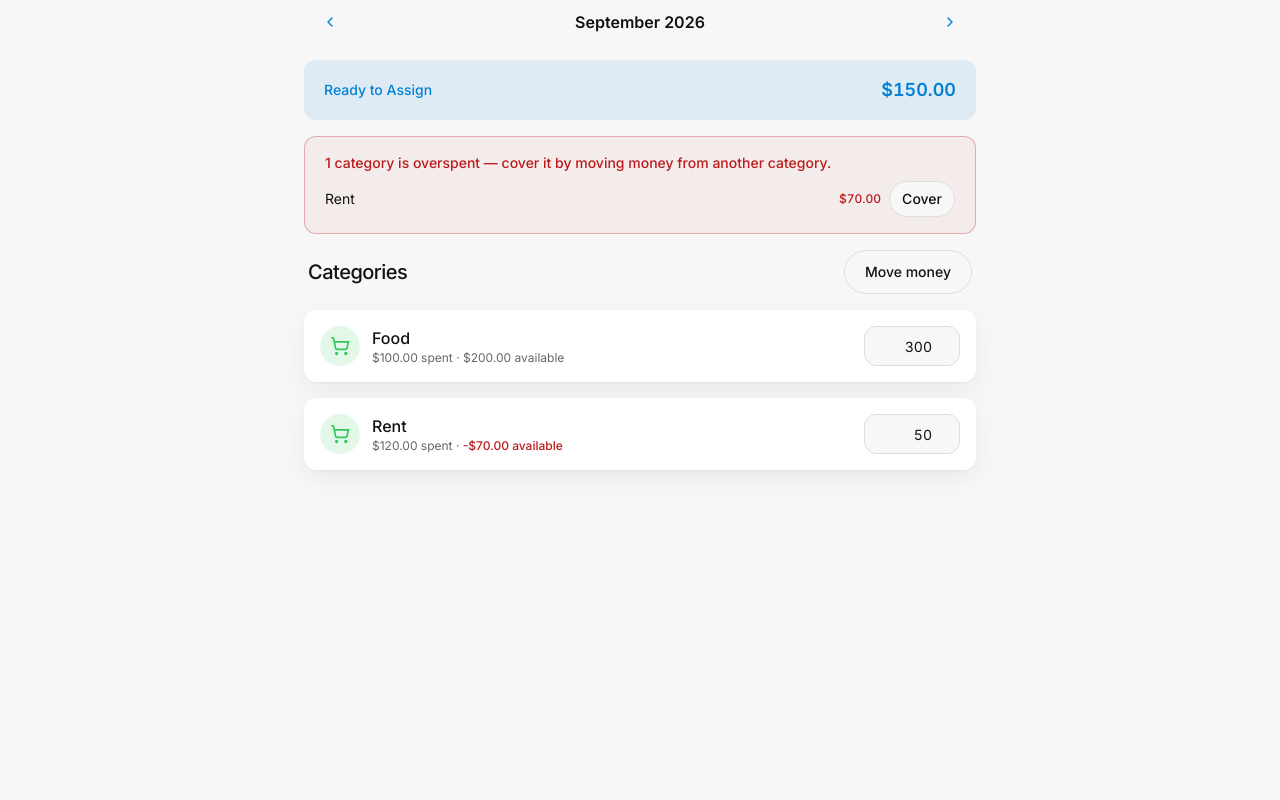
Test: ZbbBudgetView — overspend prompt › Cover opens the move dialog prefilled with the overspent category and deficit
The image size is (1280, 800).
What coordinates should you click on to do the following:
click the button with aria-label "cover rent"
I would click on:
 (922, 199)
Its box is left=889, top=181, right=955, bottom=217.
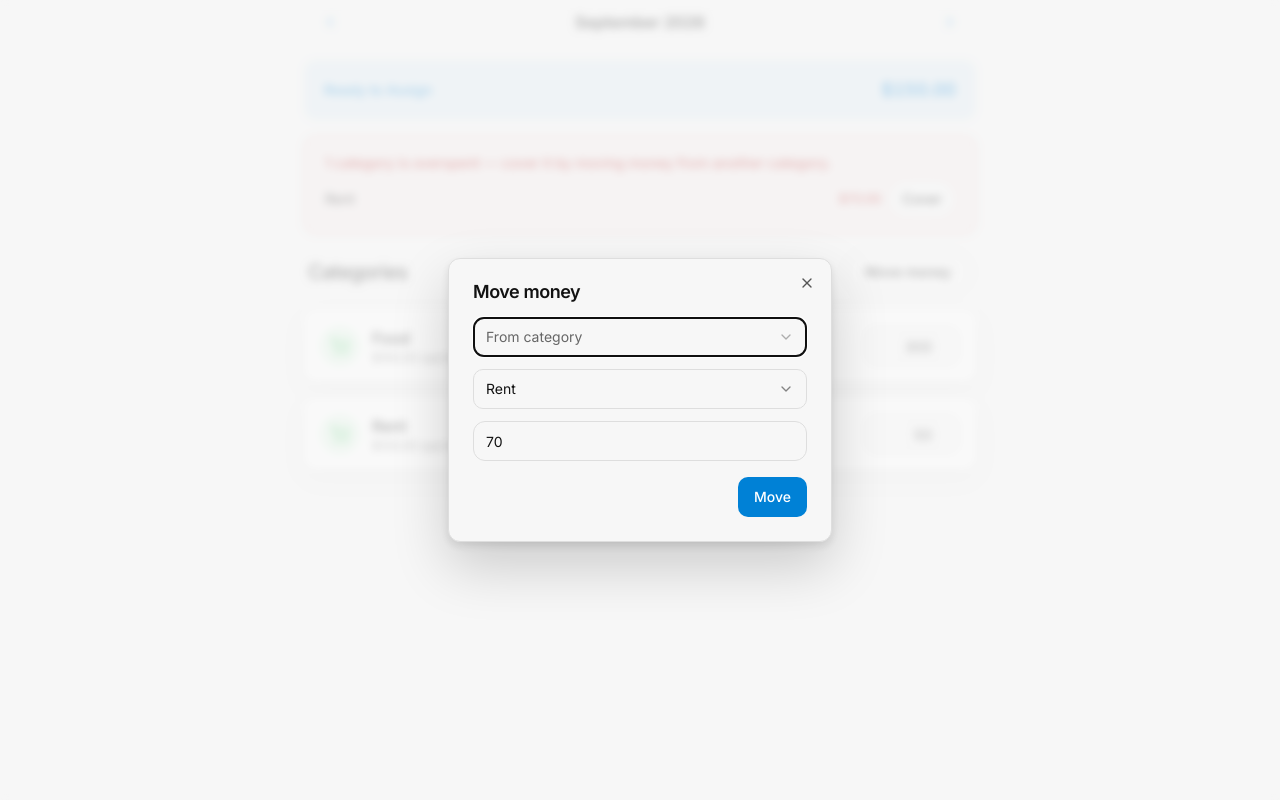
Now the dialog is shown, box left=448, top=258, right=832, bottom=542
Now the number field with placeholder "Amount" holds "70", box left=473, top=421, right=807, bottom=461
